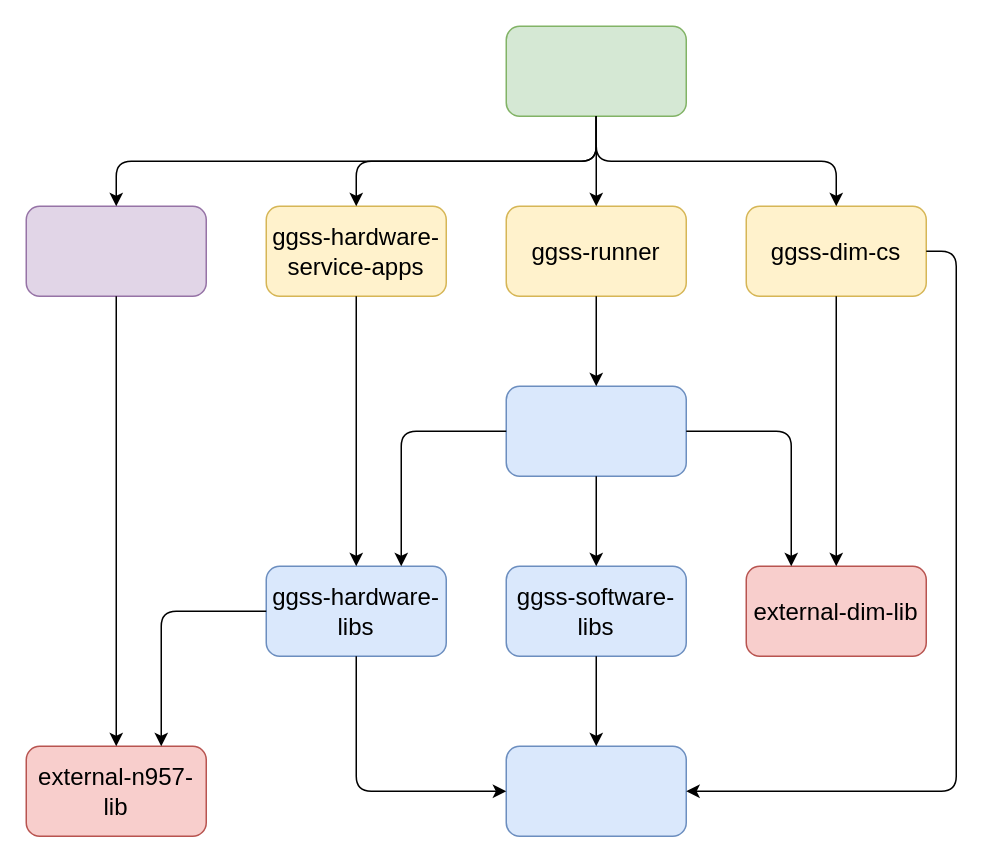
This 995x863 diagram has some shape labels left out. The box of each missing label's shape, as (x1, y1, x2, y2) in pixels:
ggss-all: (505, 25, 686, 116)
ggss-driver: (25, 205, 206, 296)
ggss-lib: (505, 385, 686, 476)
ggss-util-libs: (505, 745, 686, 836)
